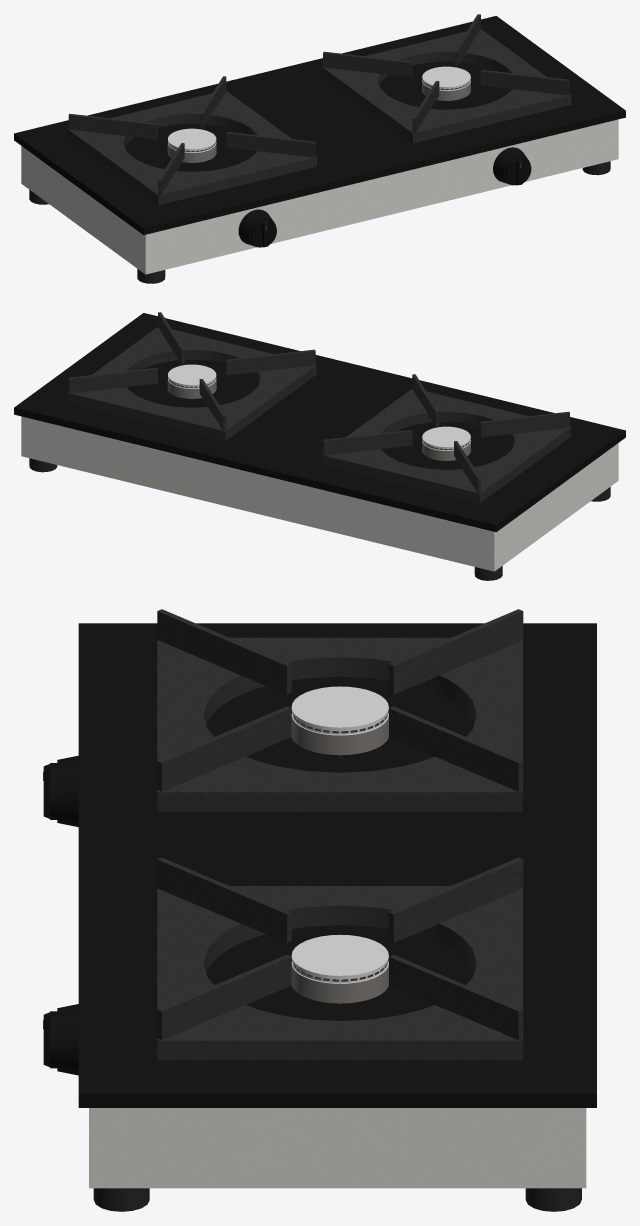
Rendered from GasStove03.fbx.
3 renders of one model, top to bottom at view 1: azimuth 30°, elevation 25°; view 2: azimuth 150°, elevation 25°; view 3: azimuth 270°, elevation 25°, orthographic. The views are drawn at different scales.
Visible parts, largest first — view 1: GasStove03, GasStove03_Knob01, GasStove03_Knob02; view 2: GasStove03; view 3: GasStove03, GasStove03_Knob02, GasStove03_Knob01.
Part boxes in pixels (box(x1,y1,x2,y2)): GasStove03: box(14, 14, 625, 283); GasStove03_Knob01: box(250, 219, 276, 247); GasStove03_Knob02: box(505, 157, 531, 185); GasStove03: box(14, 312, 625, 580); GasStove03: box(57, 609, 596, 1211); GasStove03_Knob02: box(43, 1011, 57, 1068); GasStove03_Knob01: box(43, 763, 57, 819).
Bounding box in the file's own units: 84.61 × 14.45 × 42.08.
